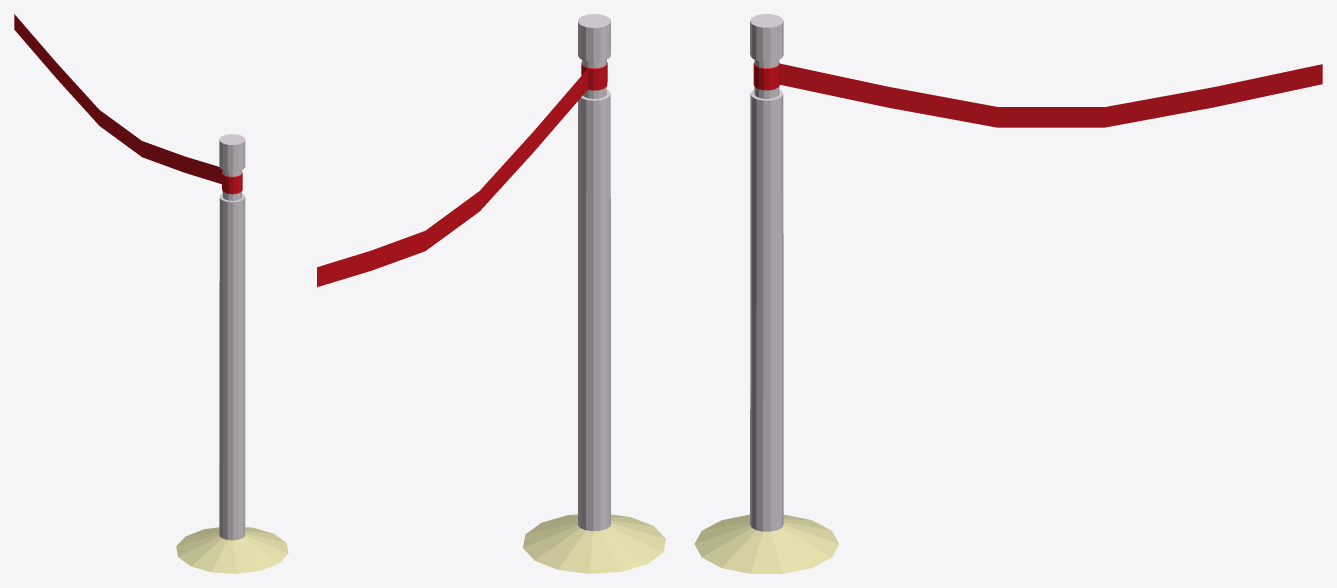
File: stolbsmertilenta.fbx
3 renders of one model, left to right at view 1: azimuth 30°, elevation 25°; view 2: azimuth 150°, elevation 25°; view 3: azimuth 270°, elevation 25°, orthographic. The views are drawn at different scales.
Visible parts, largest first — view 1: Cylinder; view 2: Cylinder; view 3: Cylinder.
Part boxes in pixels (x1,y1,x2,y2): Cylinder: (14, 14, 288, 573); Cylinder: (317, 14, 665, 573); Cylinder: (694, 14, 1322, 573).
Bounding box in the file's own units: 25.41 × 104 × 113.
